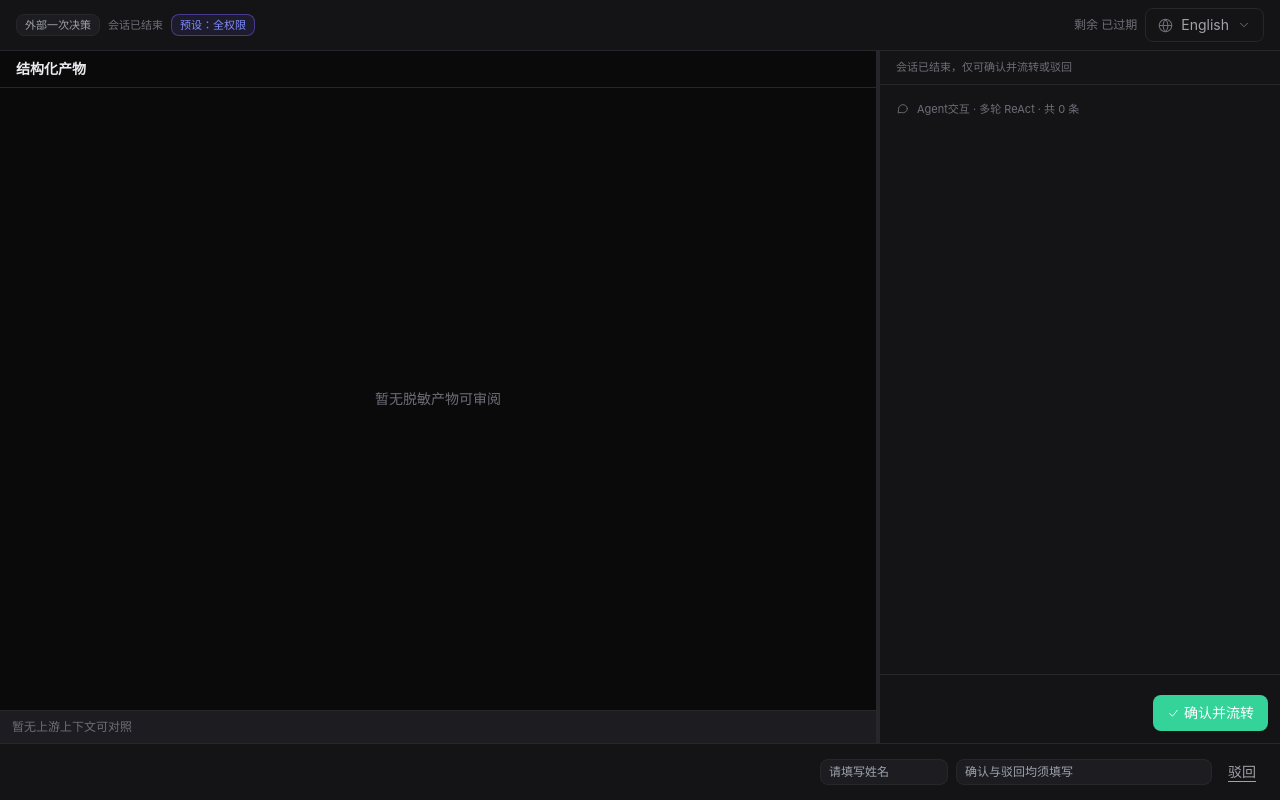
PublicGateApprovalView workbench › human_gate requires name and comment before confirm or reject
Click the button with test id "clarify-confirm-flow": point(1210, 713) [1153,695,1268,731]
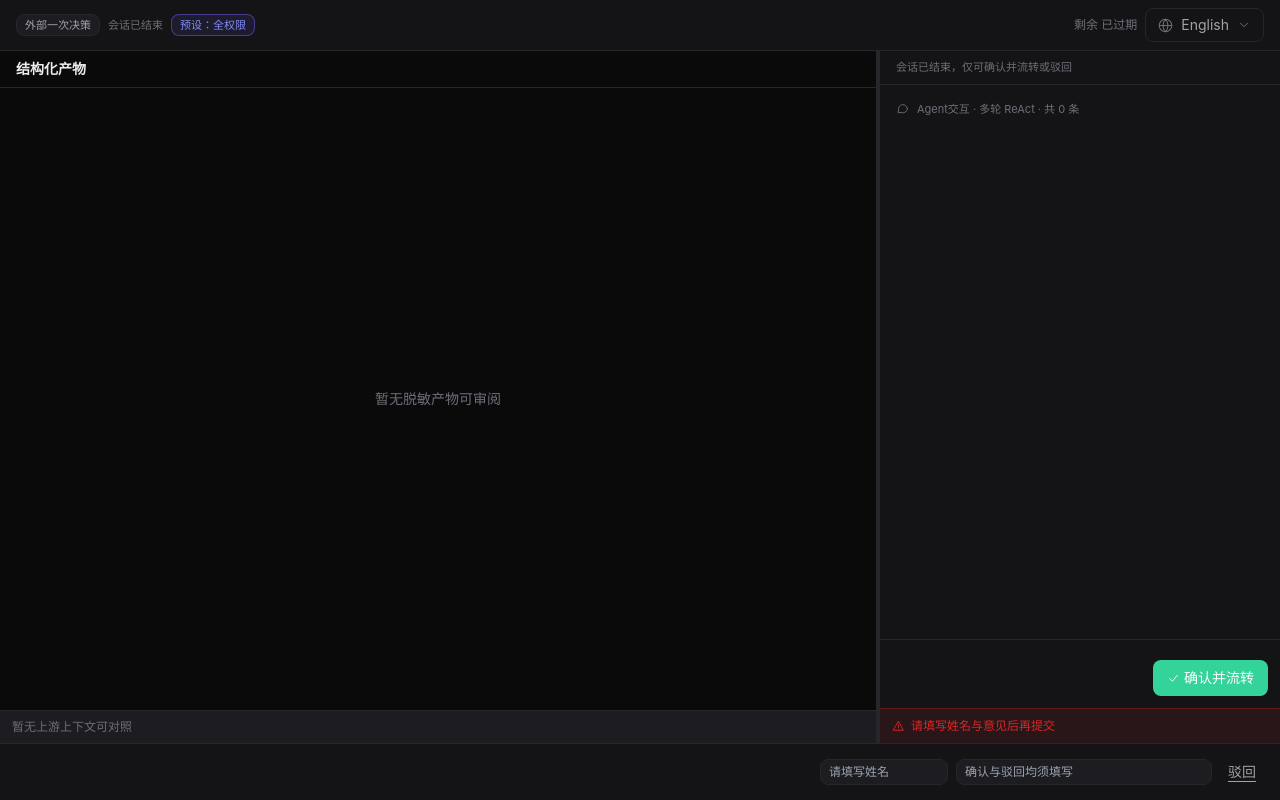
Expected: the message with test id "clarify-confirm-error" shows "姓名与意见", [911,718,1055,733]
In the field with test id "public-gate-name": point(884, 772) [820,759,948,785], type "Jordan"
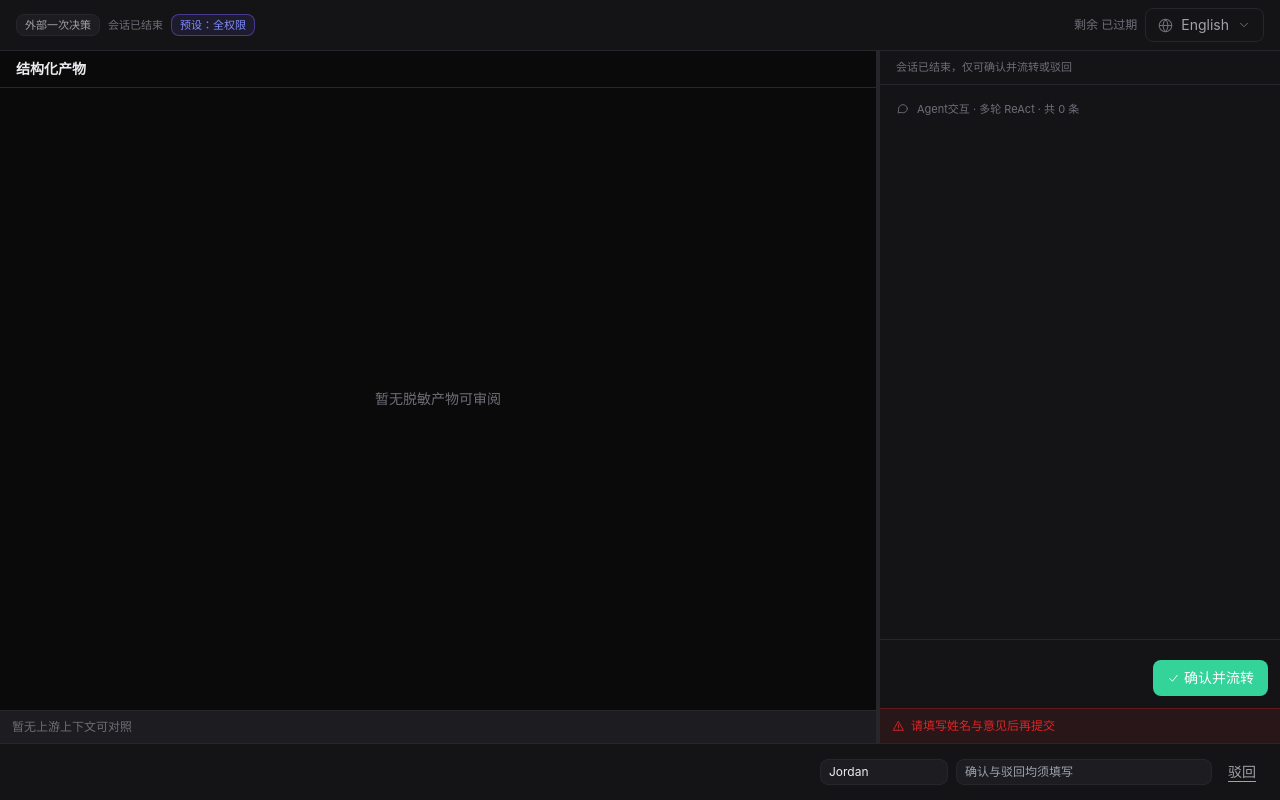
In the field with test id "public-gate-comment": point(1084, 772) [956,759,1212,785], type "可以流转"
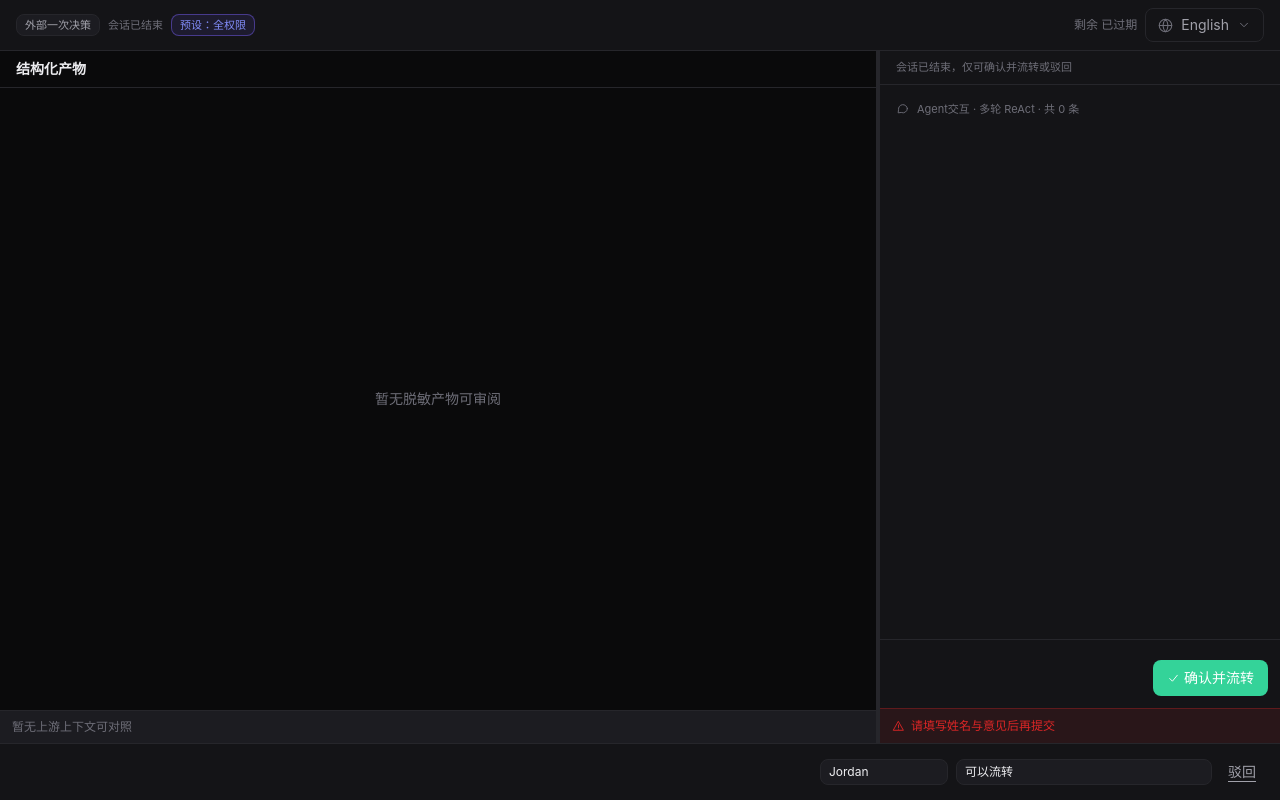
Click the button with test id "clarify-confirm-flow": point(1210, 678) [1153,660,1268,696]
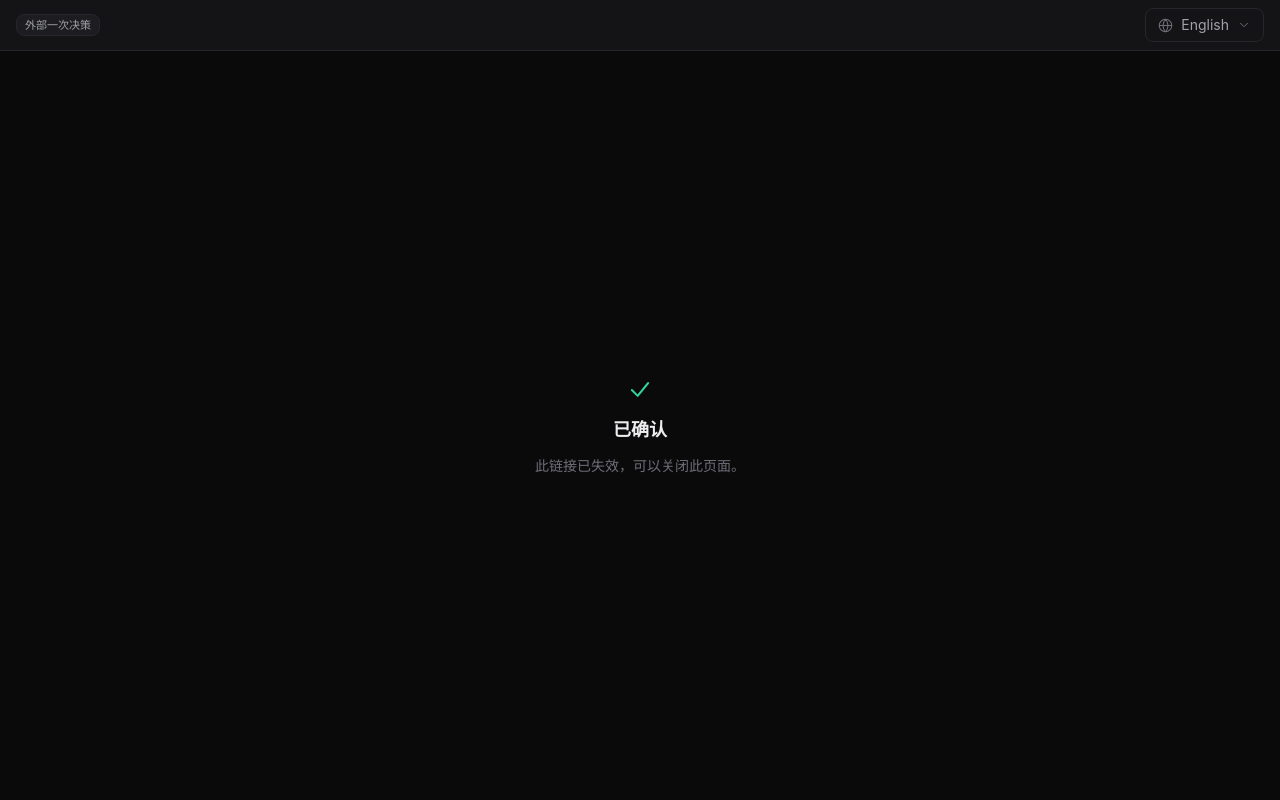
Expected: the element with test id "public-gate-done" shows "已确认", [613,418,667,440]
